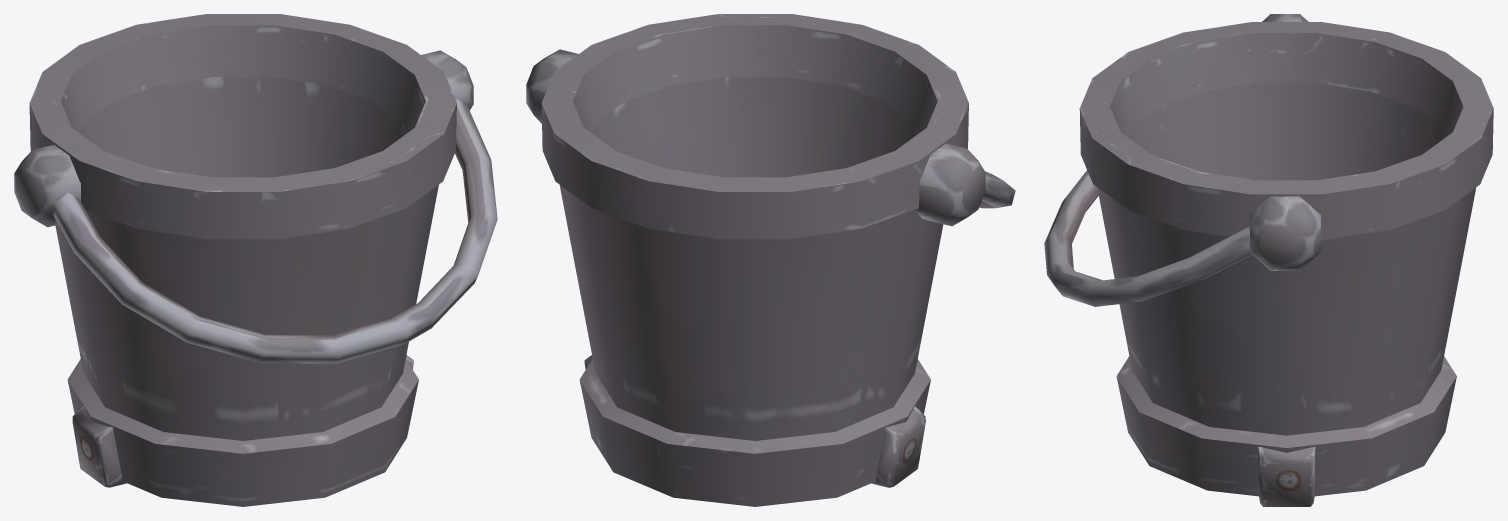
File: Bucket_Metal.glb
3 views of the same model, side by side, from view 1: azimuth 30°, elevation 25°; view 2: azimuth 150°, elevation 25°; view 3: azimuth 270°, elevation 25° (orthographic). The views are drawn at different scales.
Visible parts, largest first — view 1: Bucket_Metal; view 2: Bucket_Metal; view 3: Bucket_Metal.
Boxes of the visible parts, x1=… form: Bucket_Metal: x1=14, y1=14, x2=497, y2=506; Bucket_Metal: x1=526, y1=14, x2=1015, y2=506; Bucket_Metal: x1=1044, y1=14, x2=1493, y2=506.
Bounding box in the file's own units: 0.4854 × 0.3651 × 0.449.
Materials: 1 (1 with a texture image).
